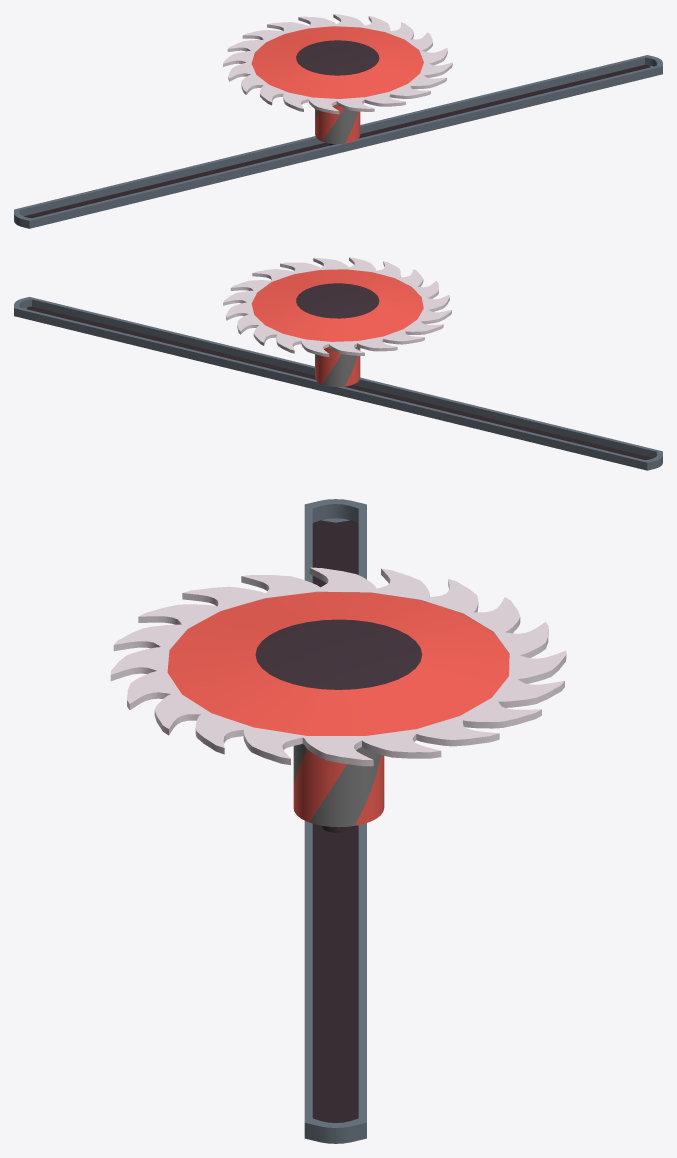
The model's file is Saw02.fbx.
The picture shows the model from 3 angles, top to bottom: view 1: azimuth 30°, elevation 25°; view 2: azimuth 150°, elevation 25°; view 3: azimuth 270°, elevation 25°; orthographic projection. The views are drawn at different scales.
Parts seen in each view (by area): view 1: Saw.002, Saw_Base.001; view 2: Saw.002, Saw_Base.001; view 3: Saw.002, Saw_Base.001.
Boxes of the visible parts, x1,y1,x2,y2 form: Saw.002: (223,14,452,145); Saw_Base.001: (14,55,662,228); Saw.002: (223,257,451,386); Saw_Base.001: (14,297,662,470); Saw.002: (110,567,566,833); Saw_Base.001: (304,499,366,1143).
Size of the model in its own units: 848 by 113 by 260.
